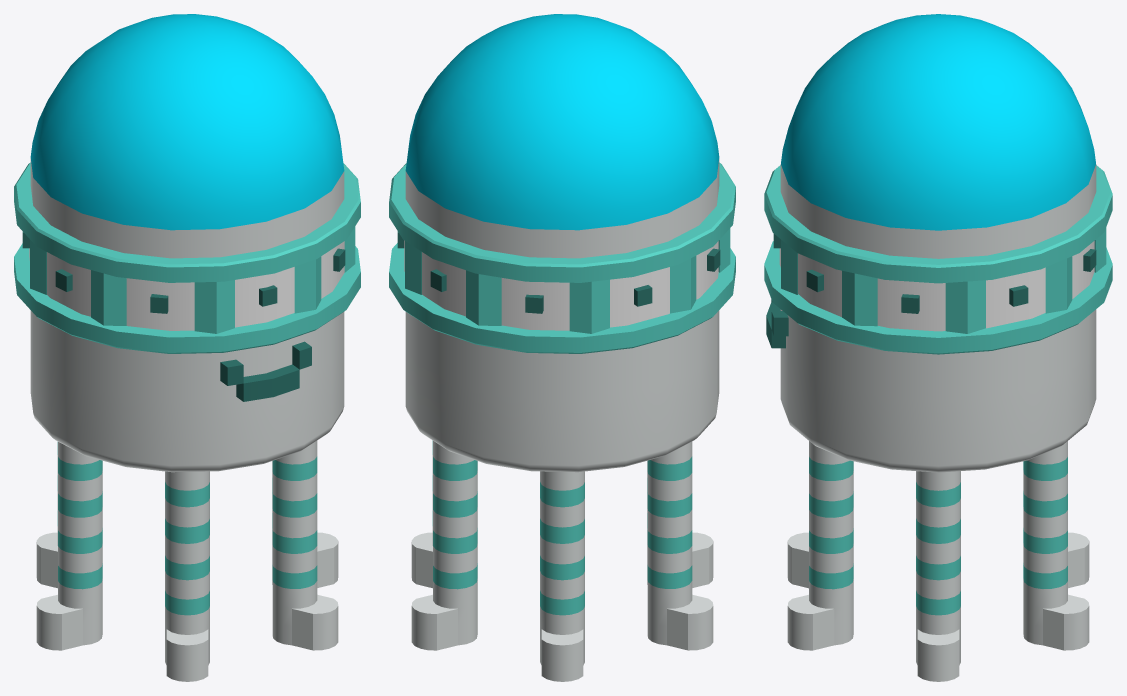
Rendered from lickquidator_soldier.fbx.
3 renders of one model, left to right at view 1: azimuth 30°, elevation 25°; view 2: azimuth 150°, elevation 25°; view 3: azimuth 270°, elevation 25°, orthographic.
Parts seen in each view (by area): view 1: body_dome, body_frame, visor, leg4, leg, leg5, mouth_base, pCube27, pCube35, pCube28, leg3, leg1 (+1 smaller); view 2: body_dome, body_frame, visor, leg, leg2, leg1, pCube33, pCube32, pCube34, leg5, leg3, pCube31; view 3: body_dome, body_frame, visor, leg2, leg4, leg3, pCube30, pCube29, pCube31, leg1, leg5, mouth_base (+1 smaller).
Part boxes in pixels (box(x1,y1,x2,y2)): body_dome: box(30, 14, 344, 230); body_frame: box(30, 159, 344, 472); visor: box(14, 162, 360, 353); leg4: box(272, 440, 338, 650); leg: box(36, 442, 102, 650); leg5: box(165, 471, 209, 681); mouth_base: box(220, 341, 311, 401); pCube27: box(194, 280, 234, 333); pCube35: box(91, 270, 126, 325); pCube28: box(294, 256, 321, 313); leg3: box(272, 461, 338, 587); leg1: box(36, 442, 57, 588); body_dome: box(405, 14, 719, 230); body_frame: box(405, 159, 719, 472); visor: box(389, 162, 735, 353); leg: box(647, 442, 713, 650); leg2: box(411, 441, 477, 650); leg1: box(540, 471, 584, 681); pCube33: box(569, 279, 609, 333); pCube32: box(466, 270, 501, 325); pCube34: box(670, 256, 696, 313); leg5: box(647, 461, 713, 587); leg3: box(411, 440, 432, 588); pCube31: box(405, 241, 421, 294); body_dome: box(781, 14, 1095, 230); body_frame: box(780, 164, 1096, 472); visor: box(764, 165, 1112, 354); leg2: box(1023, 441, 1089, 650); leg4: box(787, 441, 853, 650); leg3: box(916, 471, 960, 681); pCube30: box(945, 280, 985, 333); pCube29: box(842, 270, 877, 326); pCube31: box(1045, 256, 1072, 313); leg1: box(1068, 532, 1089, 588); leg5: box(787, 532, 808, 588); mouth_base: box(766, 299, 788, 348).
Bounding box in the file's own units: 613 × 1128 × 613.
